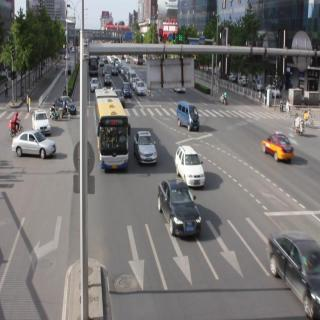BigCar: (86, 82, 136, 176), (83, 51, 103, 76)
Car: (262, 216, 320, 320), (150, 170, 208, 244), (261, 118, 298, 173), (172, 144, 208, 190), (11, 129, 55, 165), (174, 92, 205, 138), (134, 128, 156, 172), (28, 103, 54, 137), (57, 91, 75, 119), (133, 76, 148, 98), (121, 80, 137, 100), (103, 72, 114, 89), (90, 76, 97, 96)
